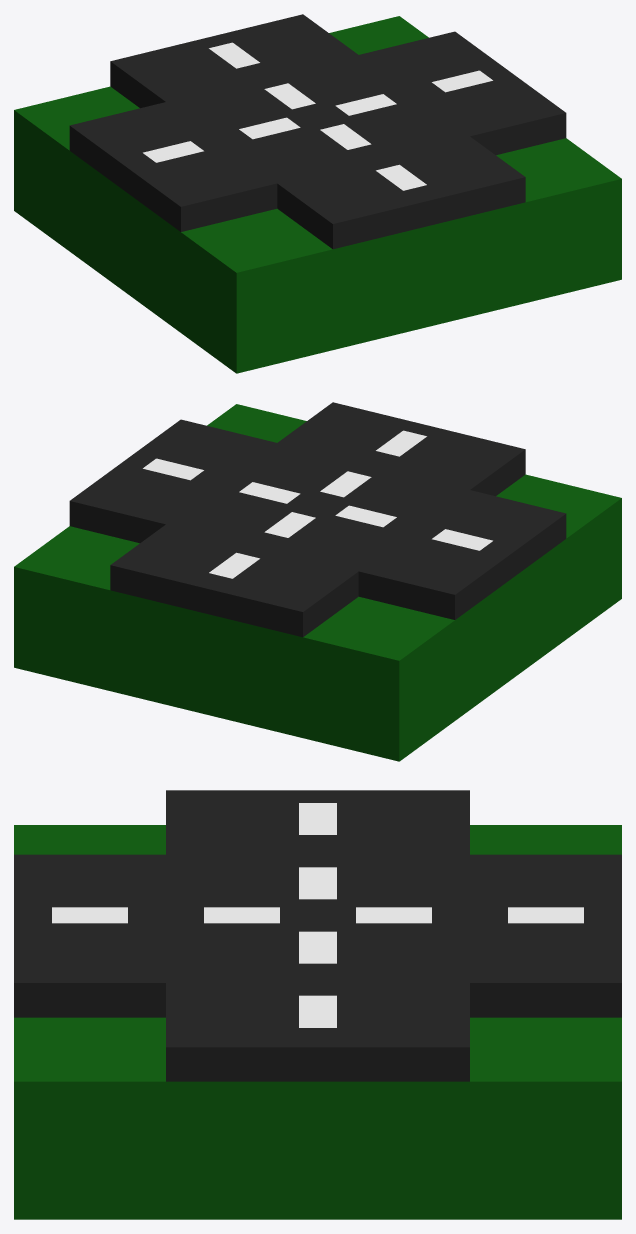
Rendered from junction.obj.
3 renders of one model, top to bottom at view 1: azimuth 30°, elevation 25°; view 2: azimuth 150°, elevation 25°; view 3: azimuth 270°, elevation 25°, orthographic. The views are drawn at different scales.
Visible parts, largest first — view 1: grass, road, plane; view 2: grass, road, plane; view 3: road, grass, plane.
Part boxes in pixels (box(x1,y1,x2,y2)): grass: box(14, 16, 621, 373); road: box(69, 14, 566, 249); plane: box(143, 42, 492, 190); grass: box(14, 404, 621, 761); road: box(69, 402, 566, 637); plane: box(143, 430, 492, 578); road: box(14, 790, 621, 1081); grass: box(14, 825, 621, 1219); plane: box(52, 803, 583, 1027).
Size of the model in its own units: 1 by 0.3187 by 1.
Materials: 1 (1 with a texture image).
